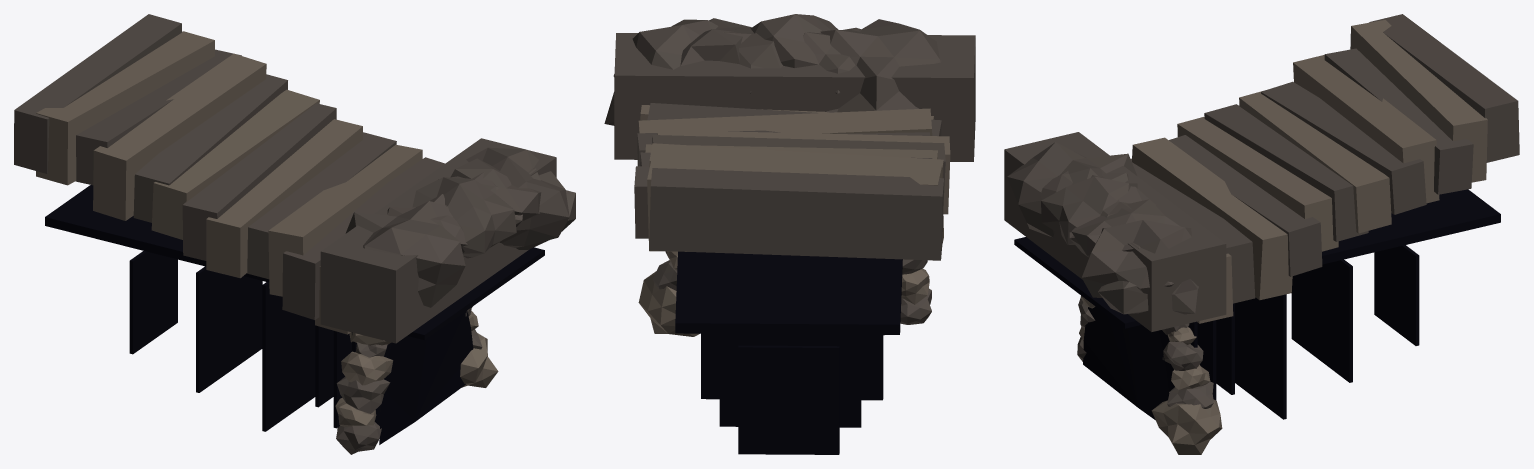
The model's file is coast_echo_grotto.glb.
3 renders of one model, left to right at view 1: azimuth 30°, elevation 25°; view 2: azimuth 150°, elevation 25°; view 3: azimuth 270°, elevation 25°, orthographic. The views are drawn at different scales.
Visible parts, largest first — view 1: geometry_0; view 2: geometry_0; view 3: geometry_0.
Boxes of the visible parts, x1,y1,x2,y2 form: geometry_0: (14, 14, 575, 454); geometry_0: (604, 14, 975, 454); geometry_0: (1004, 14, 1519, 454).
Bounding box in the file's own units: 49.42 × 32.86 × 54.4.
